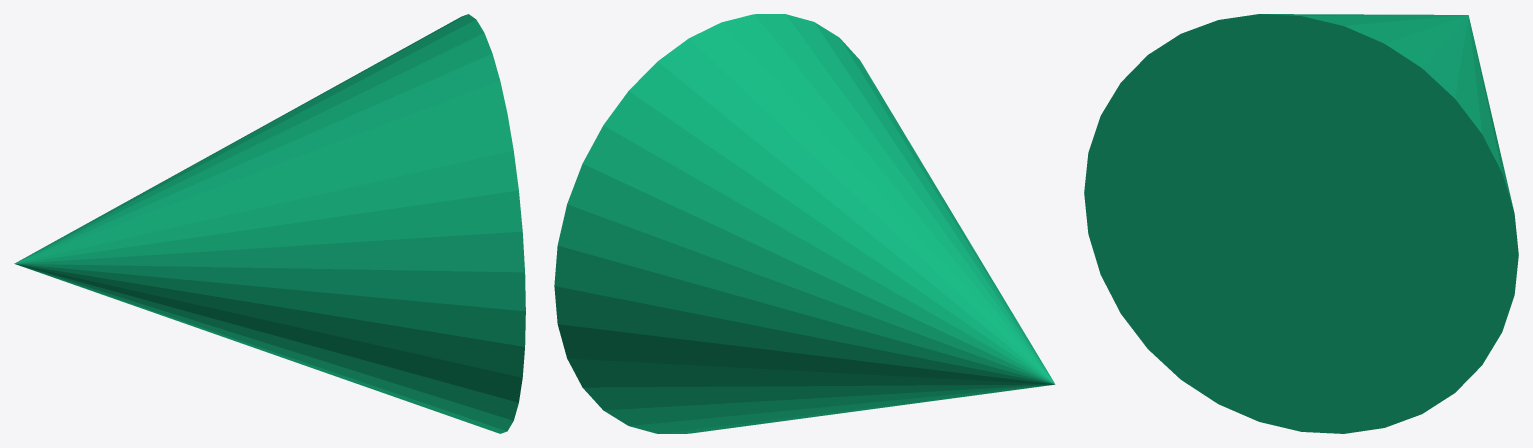
Rendered from 13_solid angle moderate.glb.
3 views of the same model, side by side, from view 1: azimuth 30°, elevation 25°; view 2: azimuth 150°, elevation 25°; view 3: azimuth 270°, elevation 25° (orthographic). The views are drawn at different scales.
Visible parts, largest first — view 1: Cone; view 2: Cone; view 3: Cone.
Boxes of the visible parts, <box> form: Cone: <box>14,14,525,433</box>; Cone: <box>554,14,1055,433</box>; Cone: <box>1084,14,1518,433</box>.
Size of the model in its own units: 2.18 by 1.76 by 1.67.
